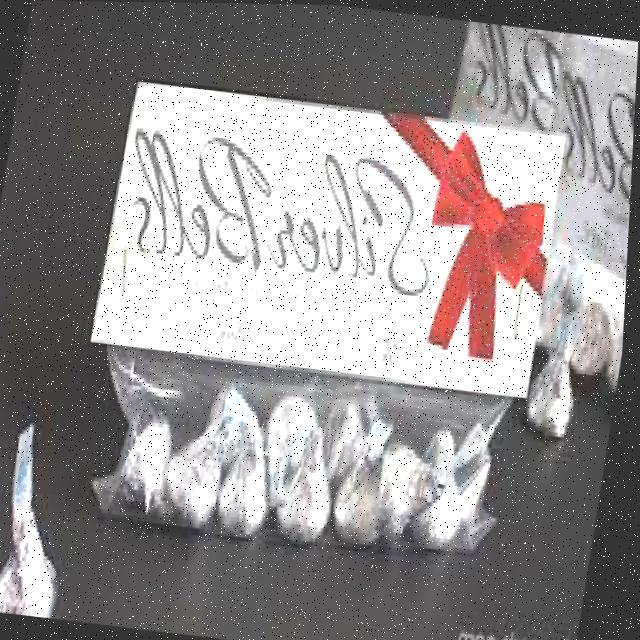kisses: (273, 404, 356, 558), (209, 407, 288, 556), (164, 399, 238, 523)
